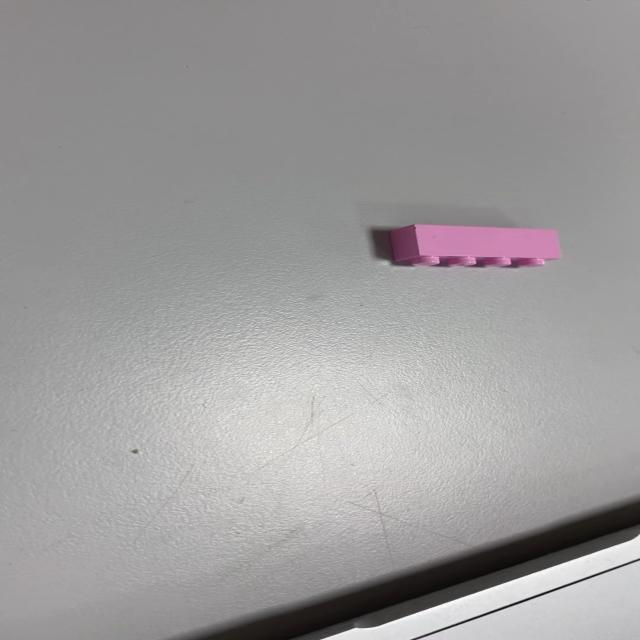C4x1x1: (386, 222, 562, 268)
